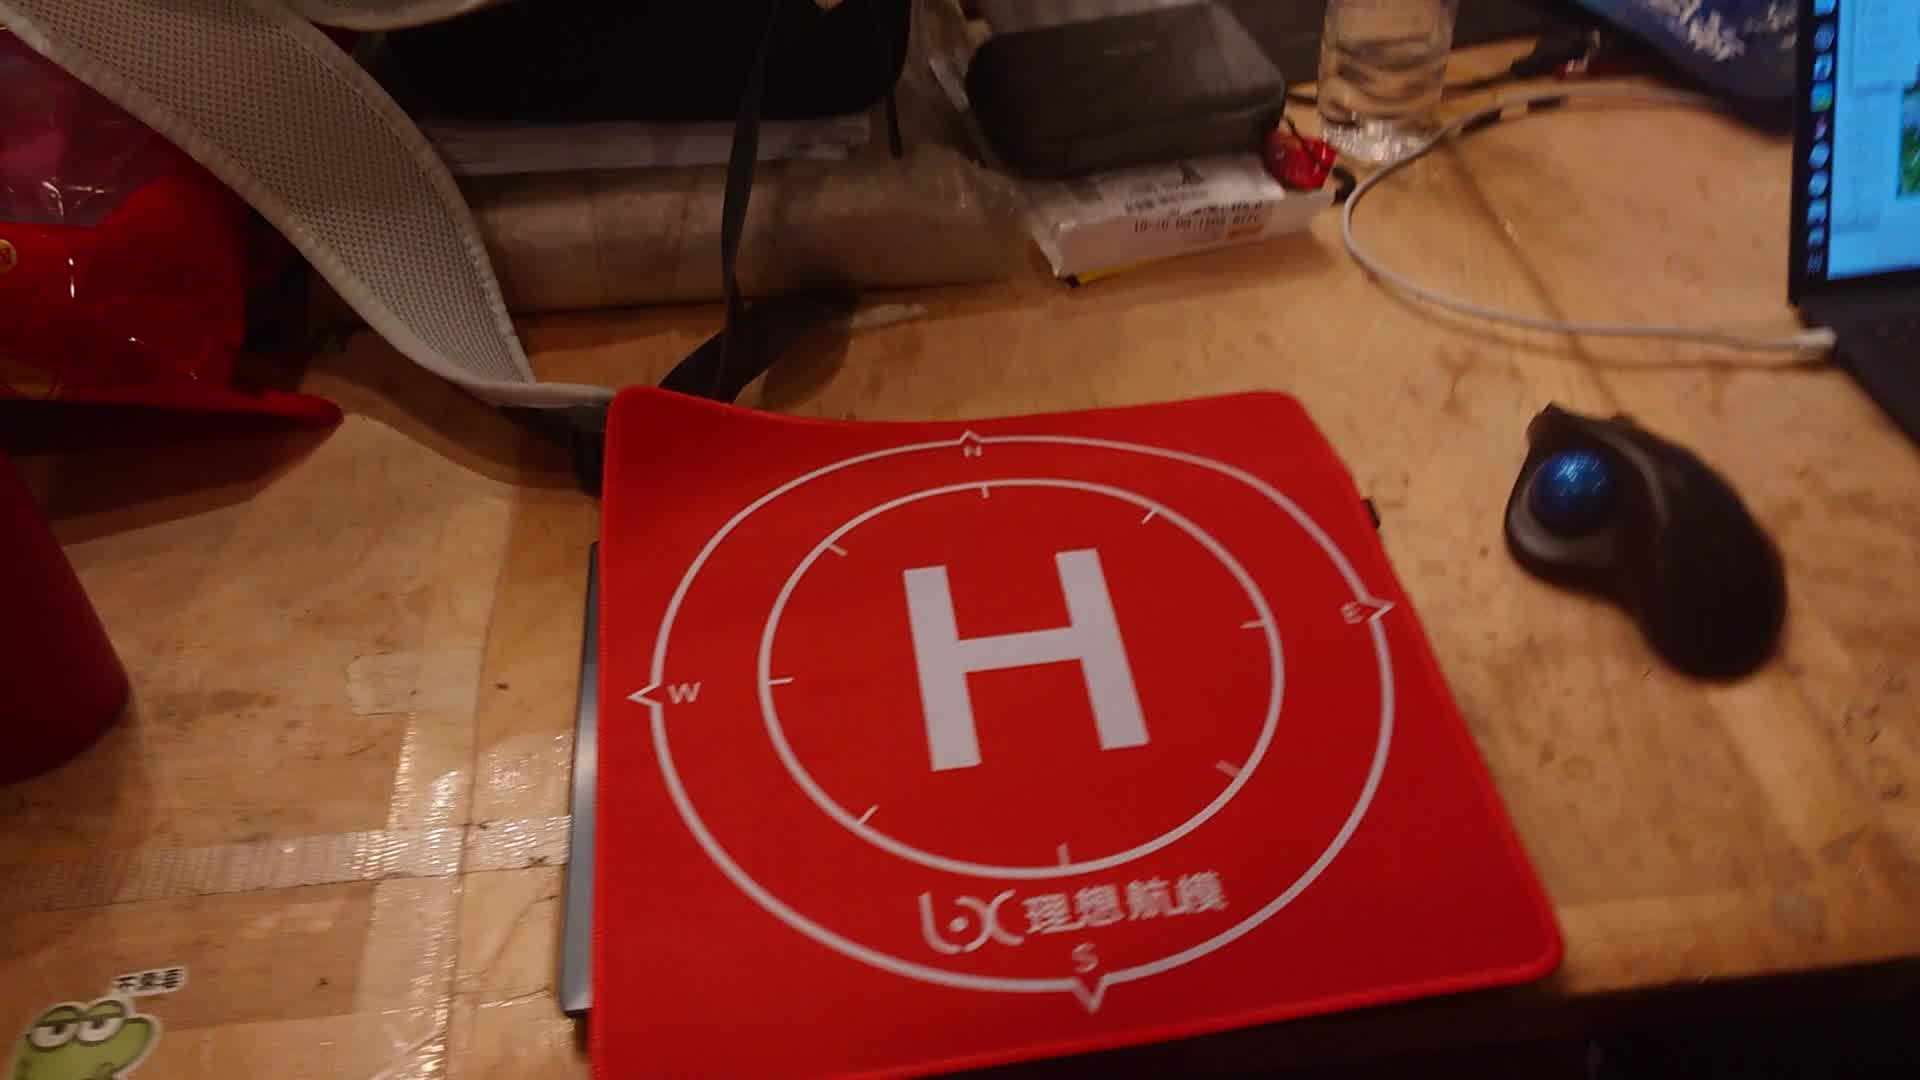H: (899, 549, 1153, 775)
